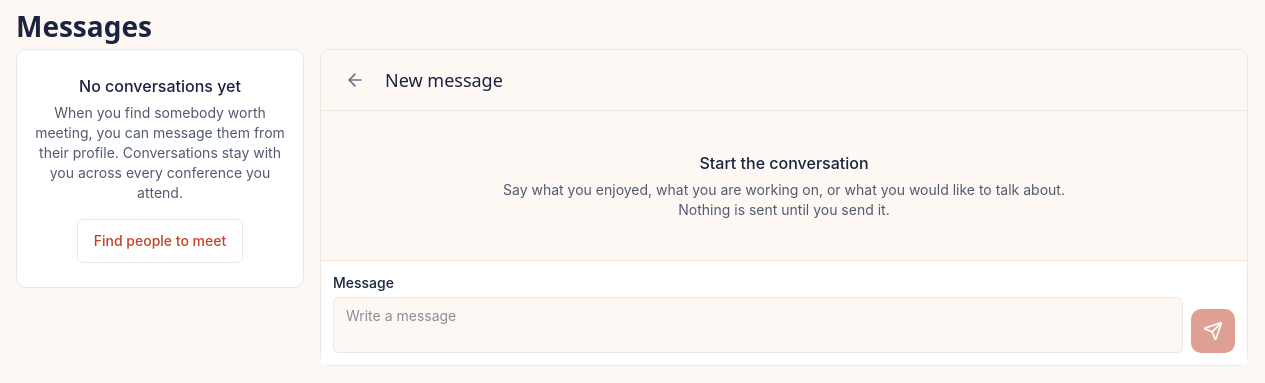
Scenario: the composer › is disabled again when the attendee clears what they typed
In the text box labelled "Message": [758, 325] box x1=333 y1=297 x2=1183 y2=353, type "Hello"
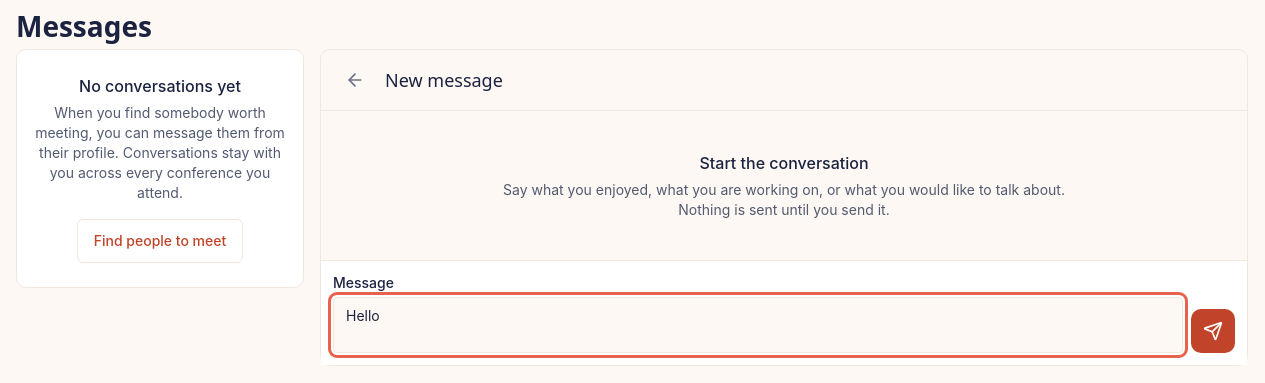
Result: the button named "send message" is enabled at x1=1191 y1=309 x2=1235 y2=353
Clear the text box labelled "Message": [758, 325] box x1=333 y1=297 x2=1183 y2=353
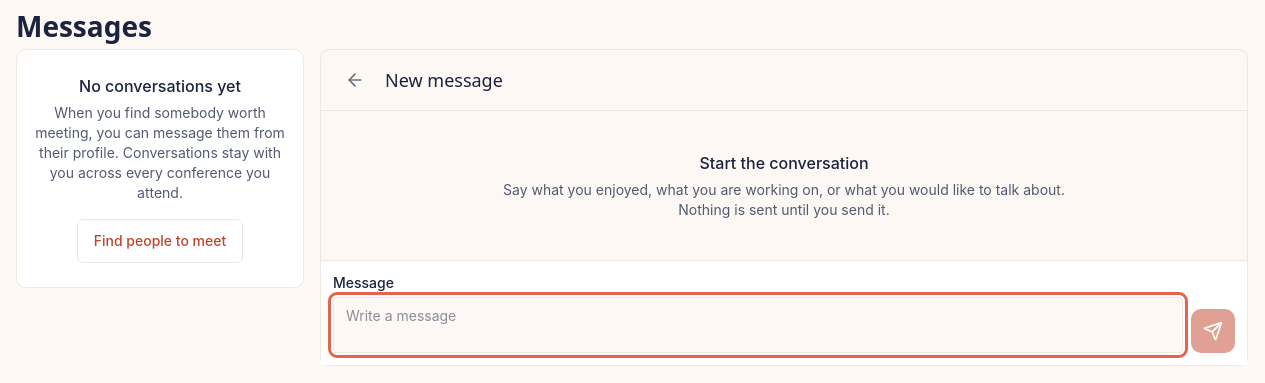
Result: the button named "send message" is disabled at x1=1191 y1=309 x2=1235 y2=353
